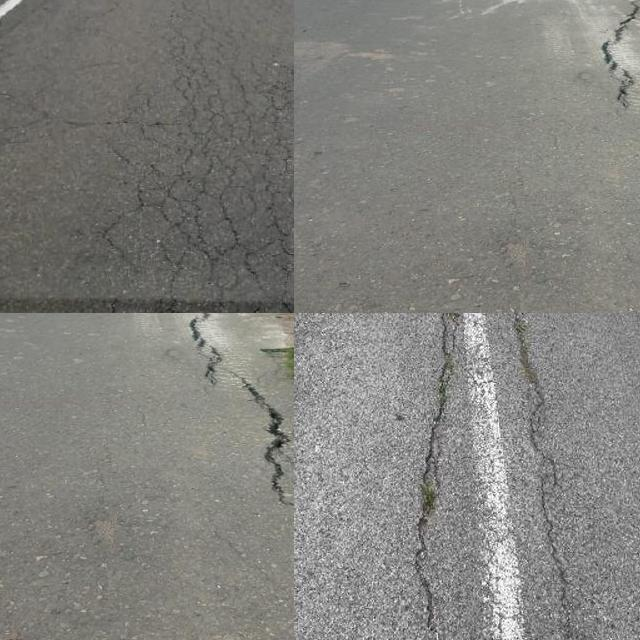Memanjang: (504, 313, 598, 640), (404, 313, 477, 640)
Retak Buaya: (113, 12, 294, 313)
